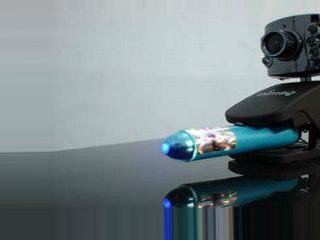webcam: (258, 13, 320, 81)
